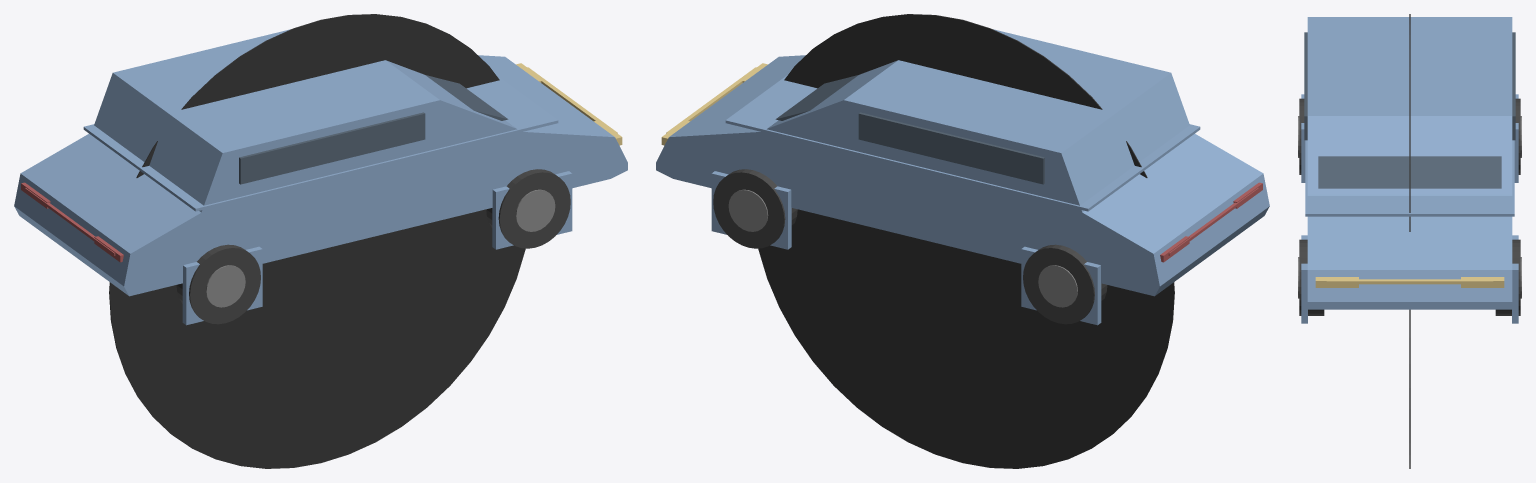
File: kombi.glb
3 views of the same model, side by side, from view 1: azimuth 30°, elevation 25°; view 2: azimuth 150°, elevation 25°; view 3: azimuth 270°, elevation 25° (orthographic). The views are drawn at different scales.
Visible parts, largest first — view 1: shadow, body, side_glass_0, beltline, tire_0, tire_2, rim_2, rim_0, arch_0, arch_2, glass; view 2: shadow, body, side_glass_1, beltline, tire_1, tire_3, rim_3, rim_1, arch_1, arch_3, glass; view 3: body, glass, beltline, headlight_bar, shadow, tire_0, tire_1, arch_0, arch_1, side_glass_0, side_glass_1, headlight_0 (+5 smaller).
Boxes of the visible parts, x1,y1,x2,y2 form: shadow: [109, 14, 525, 468]; body: [14, 29, 627, 296]; side_glass_0: [239, 112, 425, 184]; beltline: [83, 75, 558, 211]; tire_0: [486, 169, 570, 248]; tire_2: [176, 244, 260, 324]; rim_2: [206, 265, 245, 307]; rim_0: [515, 189, 555, 231]; arch_0: [492, 171, 572, 249]; arch_2: [182, 246, 262, 325]; glass: [425, 75, 508, 120]; shadow: [758, 14, 1174, 468]; body: [656, 29, 1269, 296]; side_glass_1: [858, 112, 1044, 184]; beltline: [725, 75, 1200, 211]; tire_1: [713, 169, 797, 248]; tire_3: [1023, 244, 1107, 324]; rim_3: [1038, 265, 1077, 307]; rim_1: [728, 189, 768, 231]; arch_1: [711, 171, 791, 249]; arch_3: [1021, 246, 1101, 325]; glass: [775, 75, 858, 120]; body: [1307, 17, 1512, 309]; glass: [1318, 156, 1501, 188]; beltline: [1305, 140, 1514, 216]; headlight_bar: [1326, 279, 1493, 284]; shadow: [1409, 14, 1410, 468]; tire_0: [1299, 239, 1324, 315]; tire_1: [1495, 239, 1520, 315]; arch_0: [1301, 235, 1307, 323]; arch_1: [1512, 235, 1518, 323]; side_glass_0: [1304, 32, 1307, 140]; side_glass_1: [1512, 32, 1515, 140]; headlight_0: [1315, 277, 1358, 287].
Bounding box in the file's own units: 4.75 × 3.99 × 1.96.
